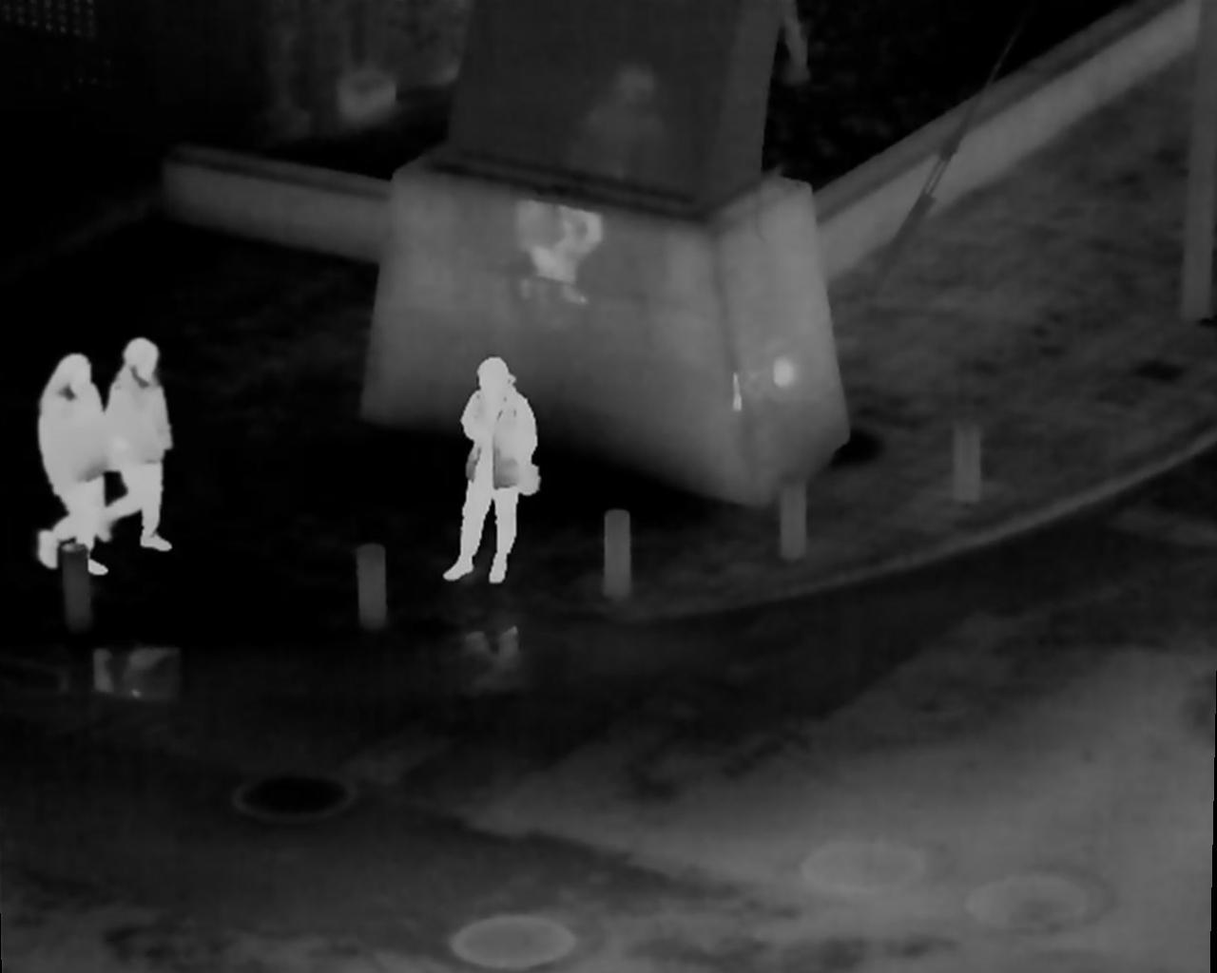person: (440, 350, 548, 579), (100, 335, 184, 555), (31, 354, 109, 574)
